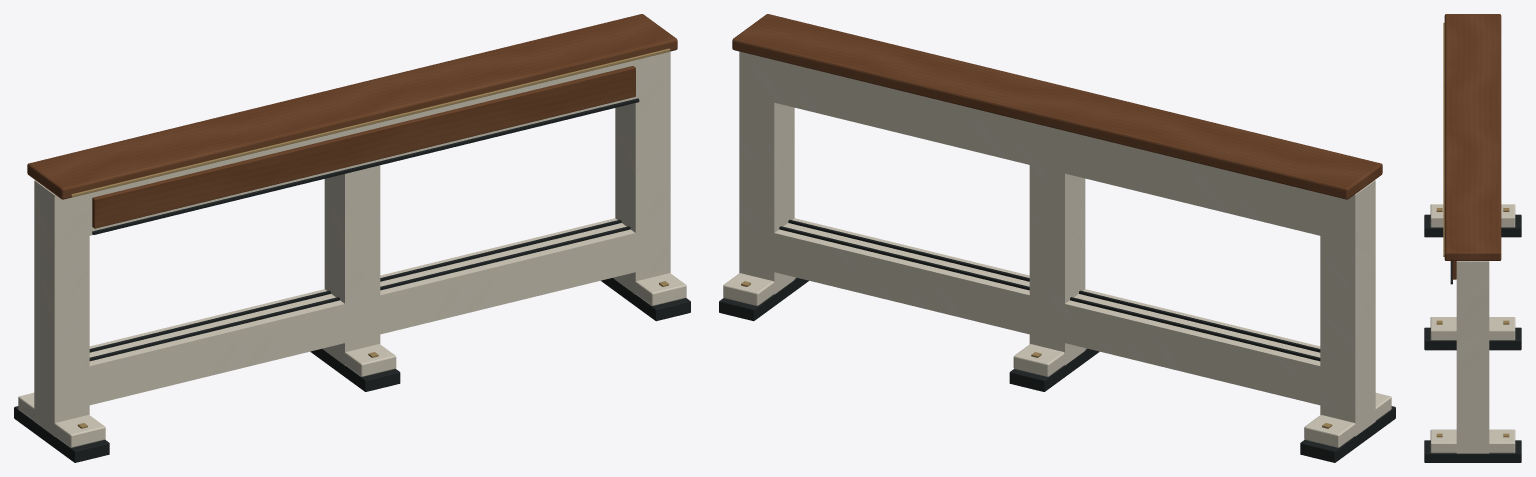
File: AST-SAL-005.glb
3 renders of one model, left to right at view 1: azimuth 30°, elevation 25°; view 2: azimuth 150°, elevation 25°; view 3: azimuth 270°, elevation 25°, orthographic. The views are drawn at different scales.
Visible parts, largest first — view 1: AST-SAL-005__ivory_enamel, AST-SAL-005__warm_walnut, AST-SAL-005__dark_rubber, AST-SAL-005__champagne_metal; view 2: AST-SAL-005__ivory_enamel, AST-SAL-005__warm_walnut, AST-SAL-005__dark_rubber; view 3: AST-SAL-005__warm_walnut, AST-SAL-005__ivory_enamel, AST-SAL-005__dark_rubber, AST-SAL-005__champagne_metal.
Boxes of the visible parts, x1=… form: AST-SAL-005__ivory_enamel: x1=18, y1=51, x2=686, y2=447; AST-SAL-005__warm_walnut: x1=27, y1=14, x2=677, y2=228; AST-SAL-005__dark_rubber: x1=14, y1=98, x2=690, y2=462; AST-SAL-005__champagne_metal: x1=71, y1=48, x2=670, y2=428; AST-SAL-005__ivory_enamel: x1=723, y1=51, x2=1391, y2=447; AST-SAL-005__warm_walnut: x1=732, y1=14, x2=1382, y2=199; AST-SAL-005__dark_rubber: x1=719, y1=219, x2=1395, y2=462; AST-SAL-005__warm_walnut: x1=1444, y1=14, x2=1501, y2=279; AST-SAL-005__ivory_enamel: x1=1430, y1=204, x2=1515, y2=453; AST-SAL-005__dark_rubber: x1=1424, y1=214, x2=1521, y2=462; AST-SAL-005__champagne_metal: x1=1436, y1=22, x2=1509, y2=437.
Size of the model in its own units: 2.8 by 1.15 by 0.48.
Materials: 4 (4 with a texture image).
